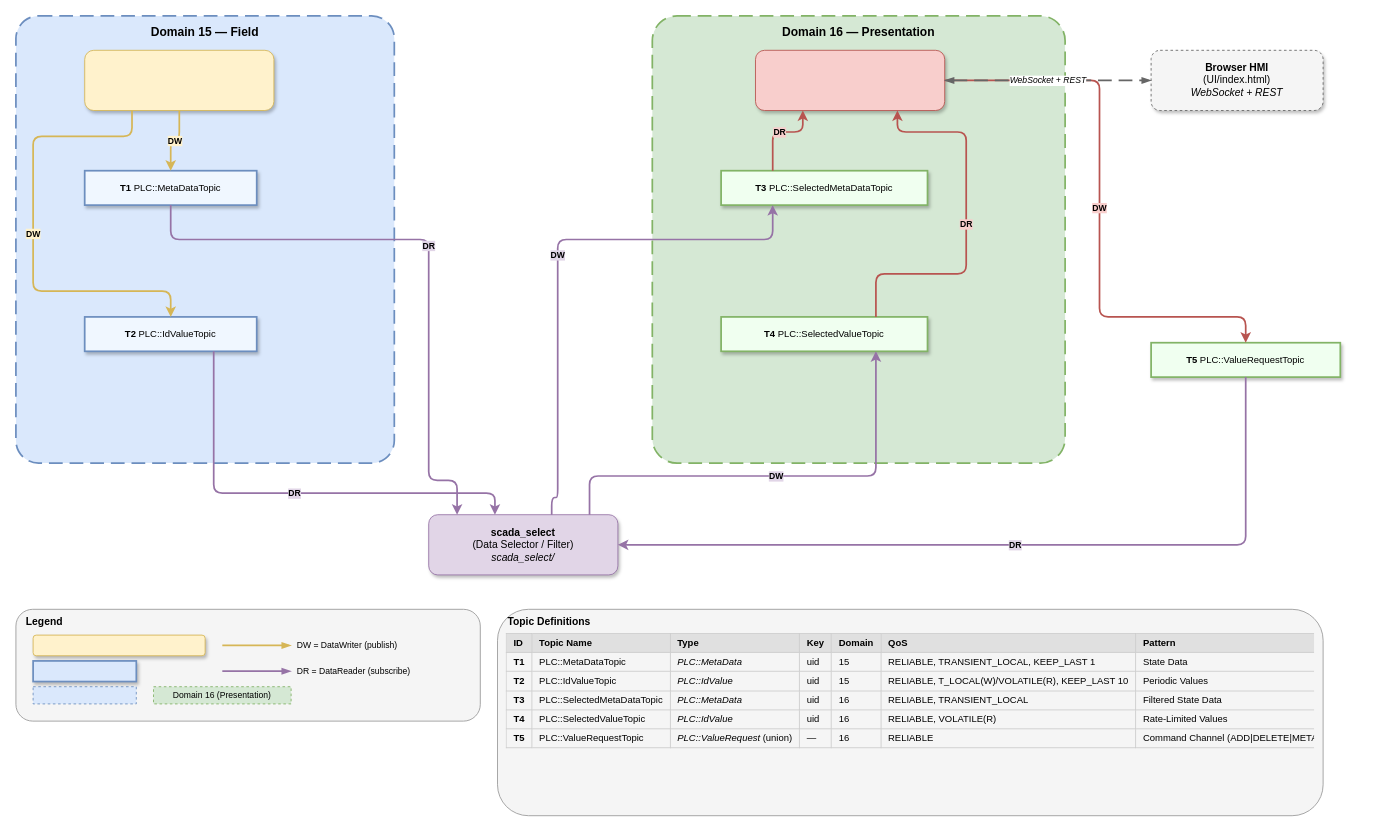
Some shapes in this 1398 by 831 pixel diagram are drawn without their labels. Here are the shapes that lost their labels. From the top down, the centre of each, then its label:
At (179,81): "field_simulation (PLC Simulator) sim/field_simulation.py".
At (850,81): "scada_web (Gateway + REST/WS API) scada_web/".
At (119,646): "Application (DomainParticipant)".
At (85,672): "DDS Topic".
At (84,695): "Domain 15 (Field)".
